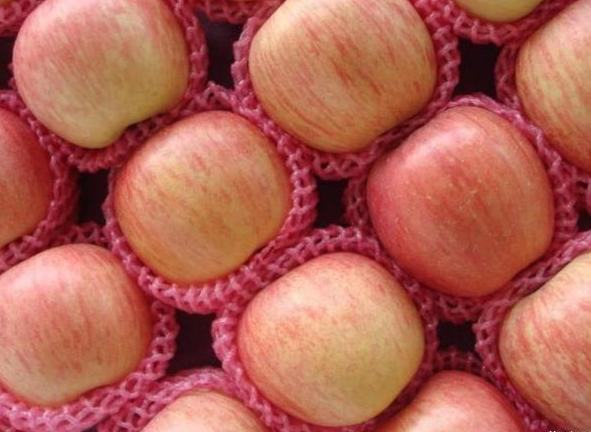apple: (247, 245, 463, 426), (377, 102, 572, 300), (115, 117, 289, 294), (268, 1, 452, 154), (11, 2, 191, 142), (1, 251, 153, 413), (512, 1, 590, 173)
